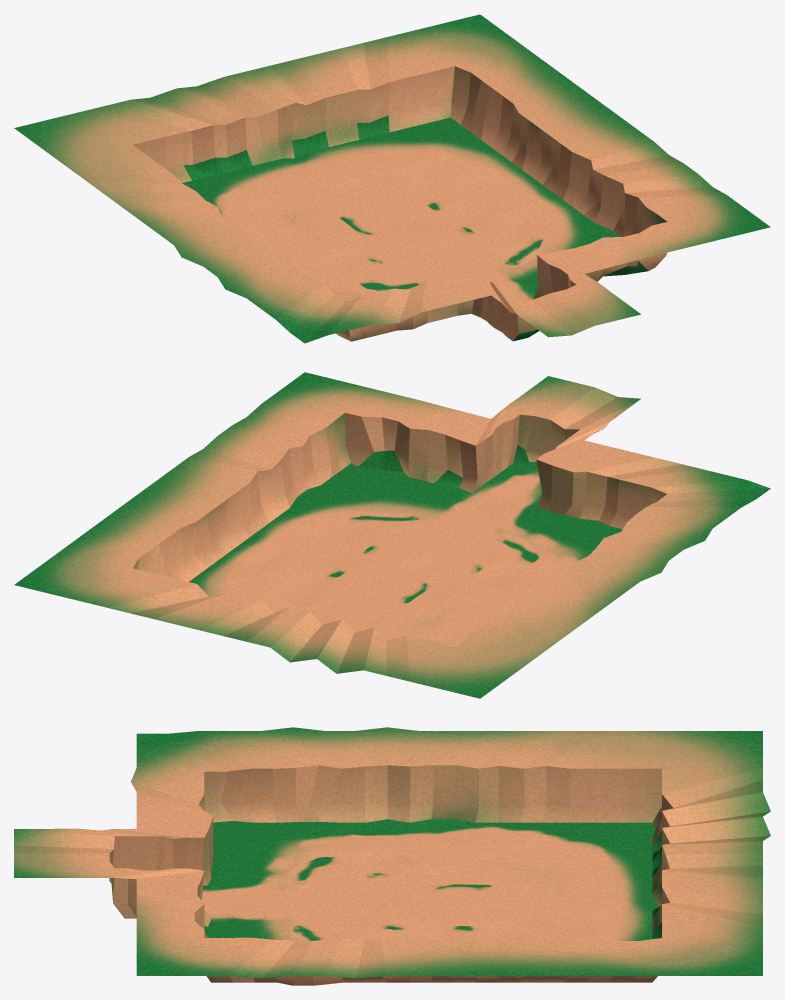
Rendered from Terrain_Stage2_Asset.fbx.
3 views of the same model, one above another, from view 1: azimuth 30°, elevation 25°; view 2: azimuth 150°, elevation 25°; view 3: azimuth 270°, elevation 25° (orthographic). The views are drawn at different scales.
Parts seen in each view (by area): view 1: Terrain_Stage2_Asset; view 2: Terrain_Stage2_Asset; view 3: Terrain_Stage2_Asset.
Boxes of the visible parts, bbox=[...] form: Terrain_Stage2_Asset: bbox=[14, 14, 770, 343]; Terrain_Stage2_Asset: bbox=[14, 372, 770, 698]; Terrain_Stage2_Asset: bbox=[14, 727, 770, 985].
Bounding box in the file's own units: 57.27 × 6.16 × 73.73.
